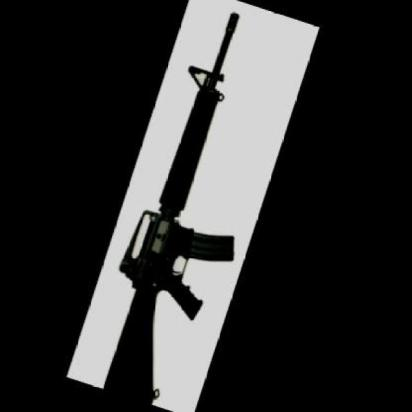Gun: (100, 0, 261, 409)
